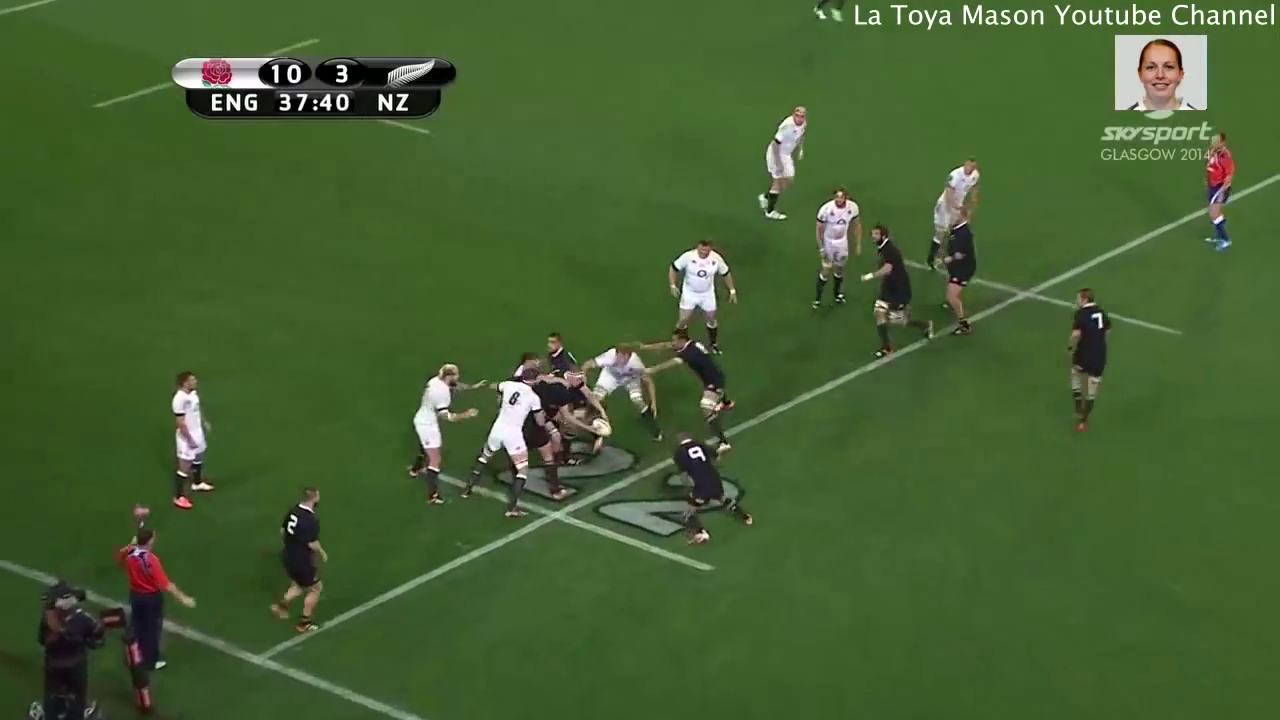ball: (589, 413, 614, 440)
maul: (481, 325, 645, 489)
player: (108, 497, 197, 648), (401, 360, 491, 508), (462, 364, 545, 521), (646, 329, 748, 450), (862, 221, 939, 369), (667, 427, 761, 548), (267, 480, 334, 639), (1055, 284, 1114, 443), (661, 238, 743, 349), (751, 100, 814, 225), (805, 180, 866, 308), (166, 368, 218, 516), (926, 152, 988, 267), (934, 206, 987, 339), (593, 335, 649, 433), (1201, 128, 1237, 258), (531, 330, 573, 368)
